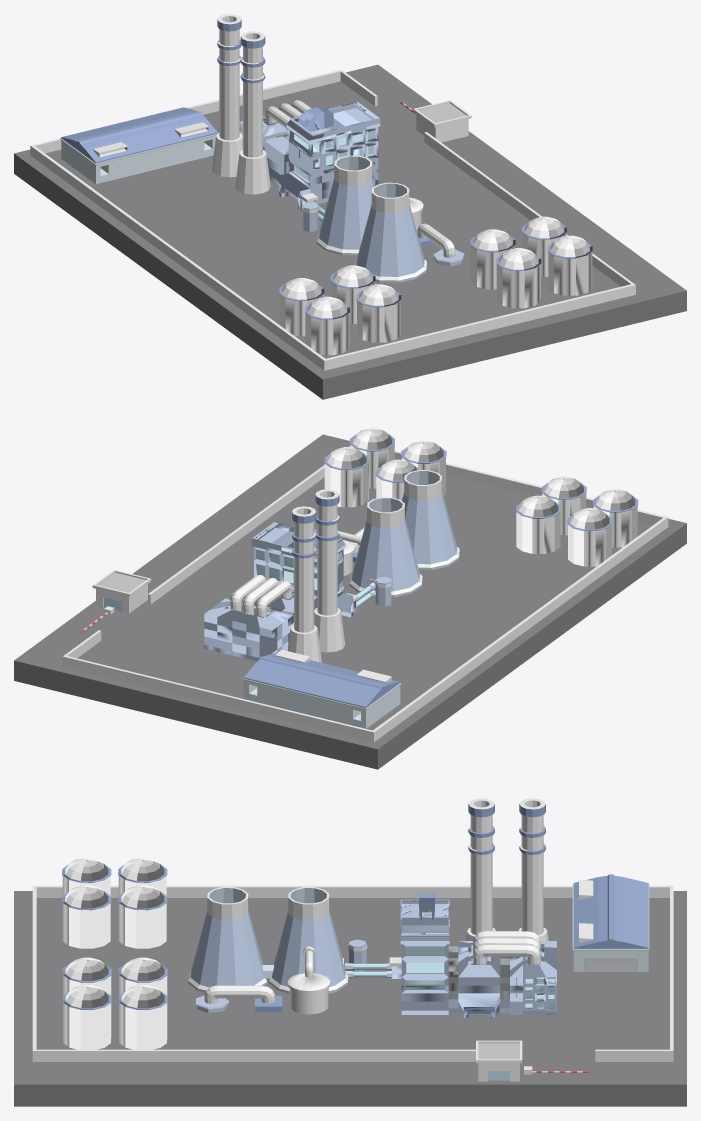
Rendered from bigfactory.glb.
3 renders of one model, top to bottom at view 1: azimuth 30°, elevation 25°; view 2: azimuth 150°, elevation 25°; view 3: azimuth 270°, elevation 25°, orthographic. The views are drawn at different scales.
Parts seen in each view (by area): view 1: Cube_13; view 2: Cube_13; view 3: Cube_13.
Part boxes in pixels (box(x1,y1,x2,y2)): Cube_13: box(14, 14, 686, 399); Cube_13: box(14, 428, 686, 769); Cube_13: box(14, 798, 686, 1106).
Size of the model in its own units: 3.76 by 1.69 by 5.53.
